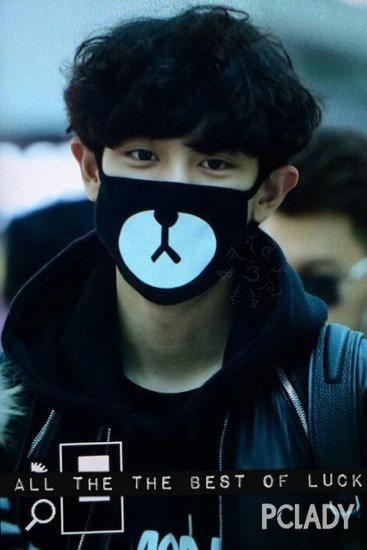OK: (88, 123, 267, 302)
